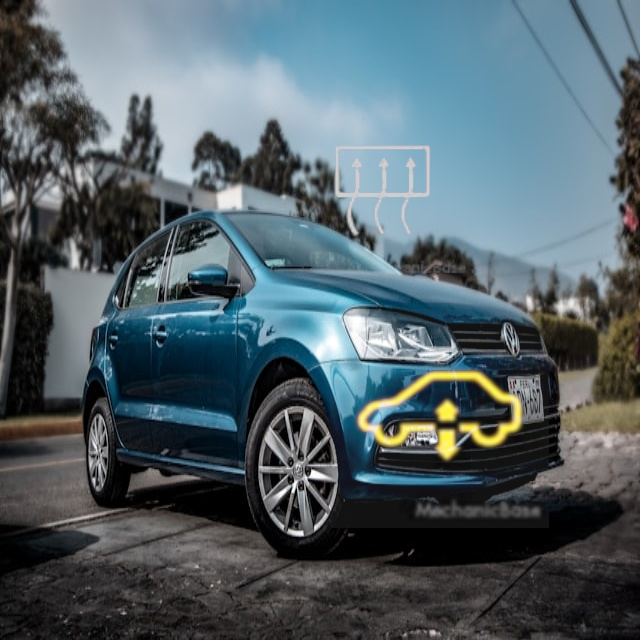symbol: (330, 309, 549, 528), (294, 103, 473, 282)
